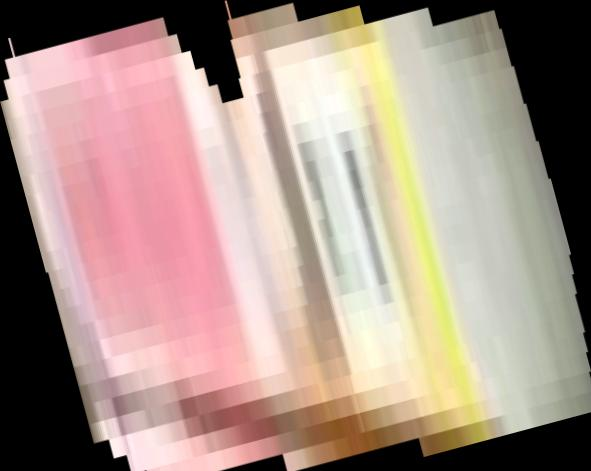flat: (1, 1, 591, 471)
